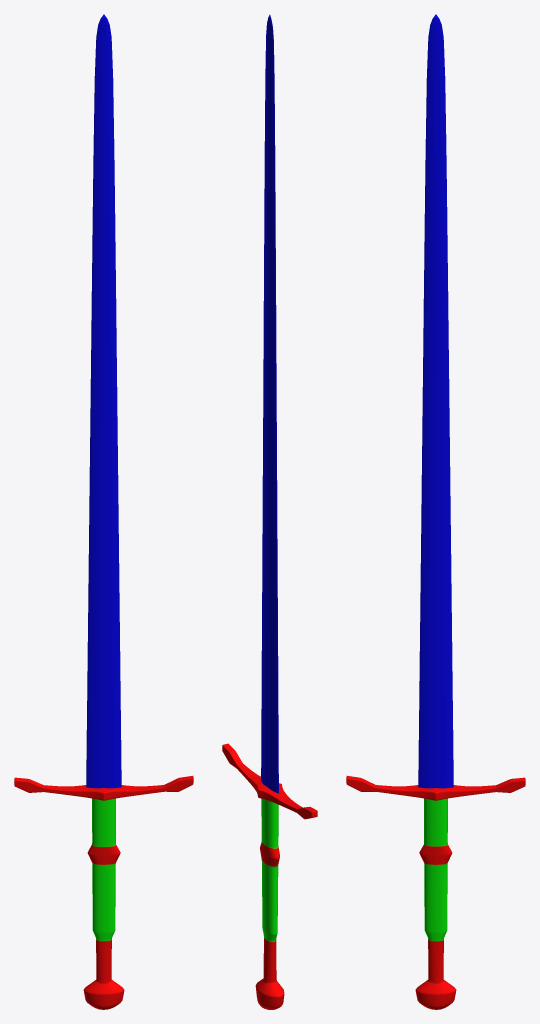
The model's file is SM_Medieval_Weapons_Espadon.fbx.
3 views of the same model, side by side, from view 1: azimuth 90°, elevation 25°; view 2: azimuth 210°, elevation 25°; view 3: azimuth 270°, elevation 25° (orthographic).
Visible parts, largest first — view 1: SM_Medieval_Weapons_Espadon; view 2: SM_Medieval_Weapons_Espadon; view 3: SM_Medieval_Weapons_Espadon.
Part boxes in pixels (left/top/right/bottom): SM_Medieval_Weapons_Espadon: left=14, top=14, right=193, bottom=1009; SM_Medieval_Weapons_Espadon: left=222, top=14, right=317, bottom=1009; SM_Medieval_Weapons_Espadon: left=346, top=14, right=525, bottom=1009.
Size of the model in its own units: 4.66 by 30.33 by 186.
